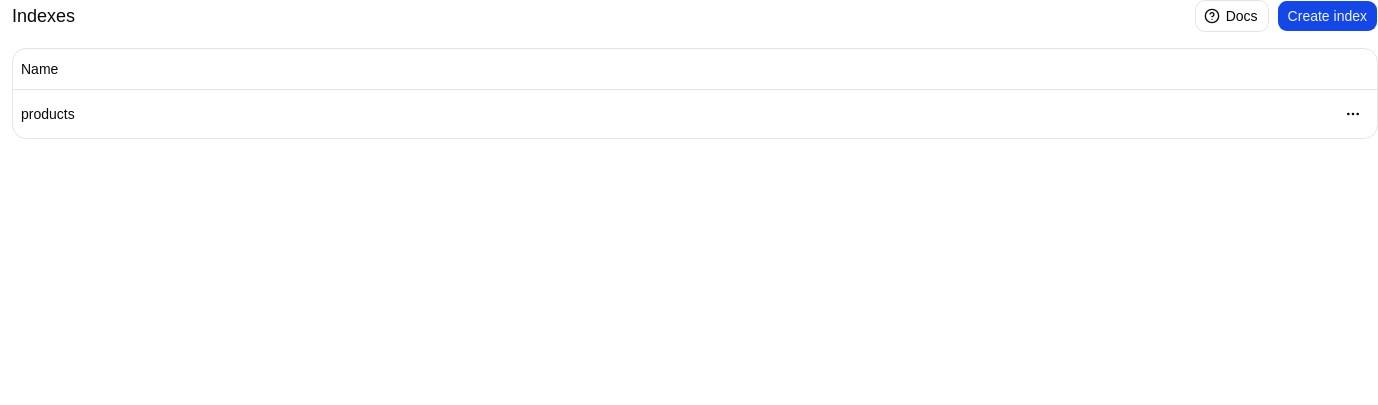
Test: IndexesPage › shows navigate, copy, and delete actions without a section label
The width and height of the screenshot is (1378, 405).
Click the button named "Open menu". click: (1353, 114)
box: x1=1337 y1=98 x2=1369 y2=130
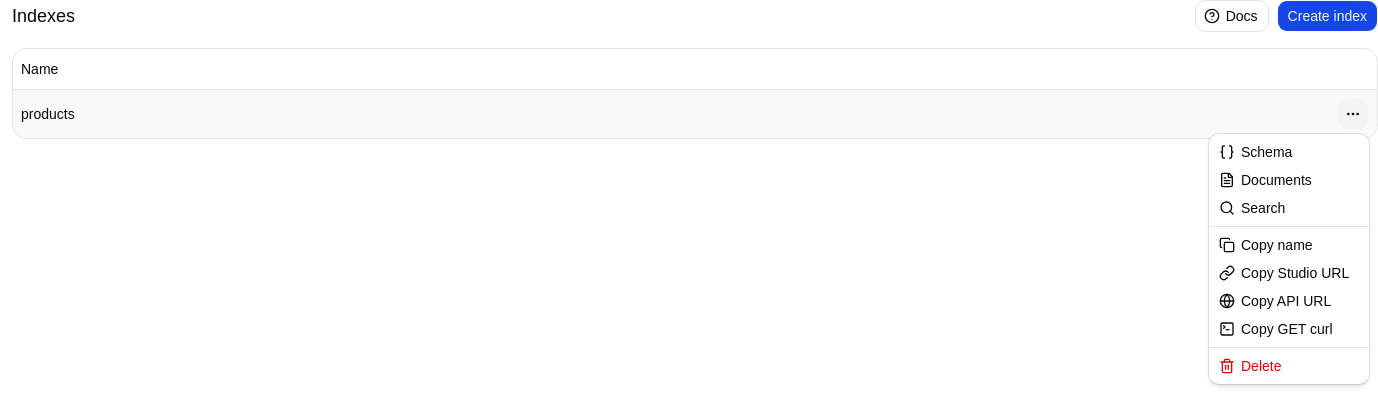
Now the menu item "Schema" is shown, box x1=1219 y1=144 x2=1292 y2=160
Now the menu item "Documents" is shown, box x1=1219 y1=172 x2=1312 y2=188
Now the menu item "Search" is shown, box x1=1219 y1=200 x2=1285 y2=216
